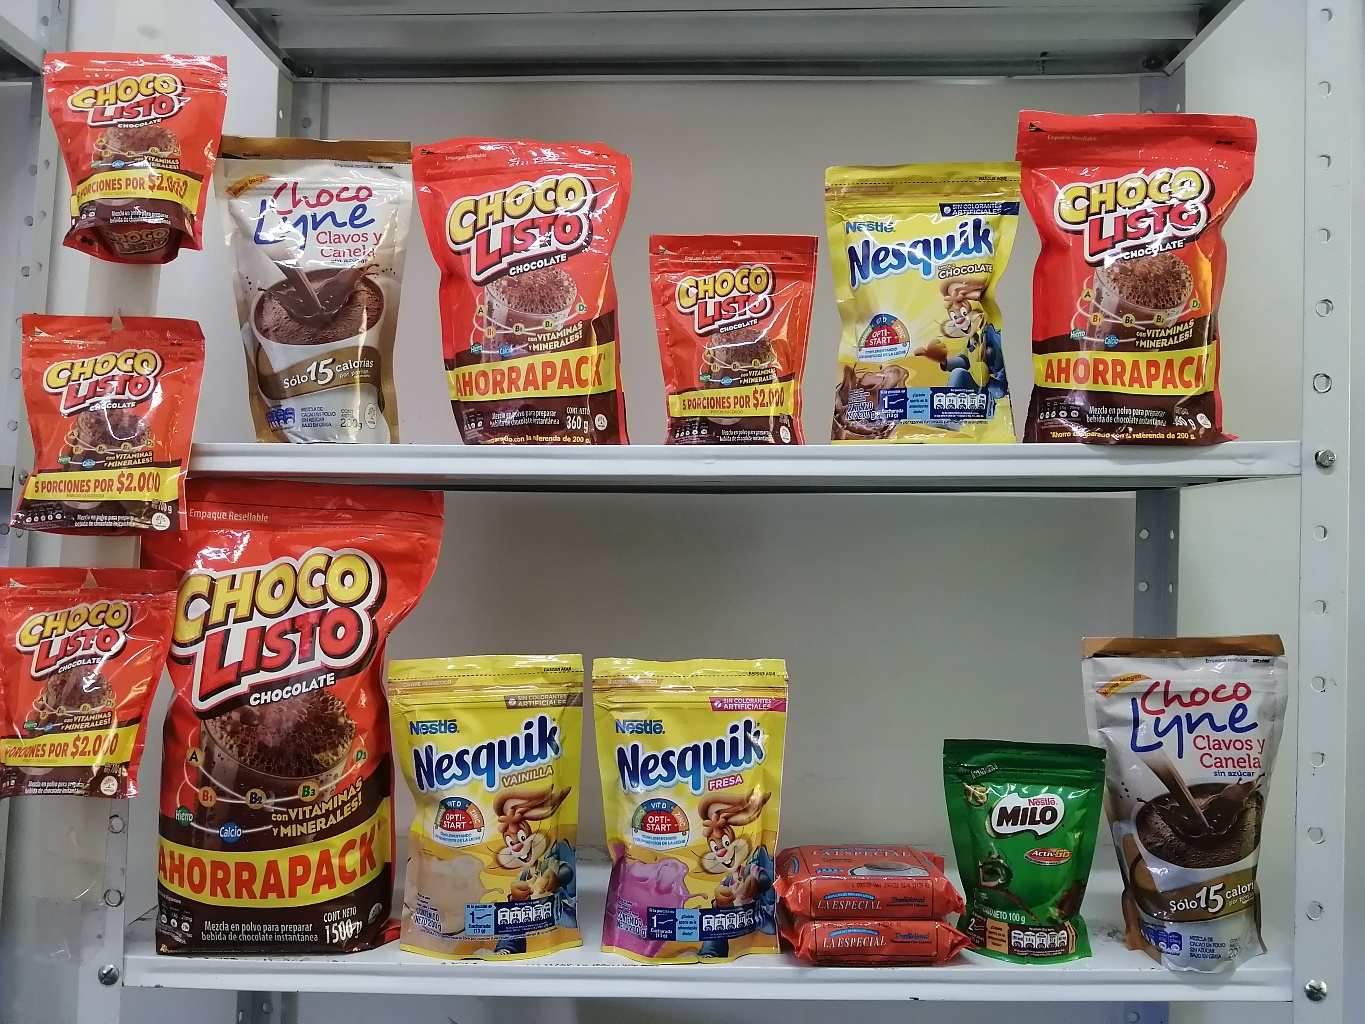COL0170103DYP1,500: (143, 478, 450, 962)
COL0170103DYP10000: (44, 46, 237, 266)
COL0170103DYP36000: (414, 137, 626, 446)
COL0170103DYP40000: (1014, 108, 1260, 449)
COL0170203DYP10000: (941, 735, 1112, 964)
COL0170303DYP20000: (819, 163, 1020, 443)
COL0170305DYP20000: (214, 128, 412, 443)
COL0170306DYP20000: (385, 656, 585, 966)
